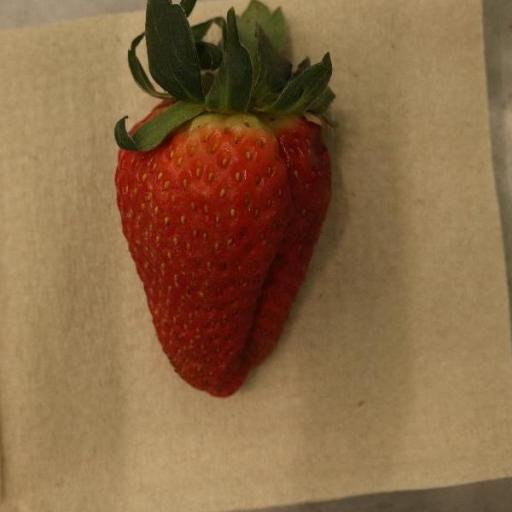Strawberry: (114, 0, 337, 400)
